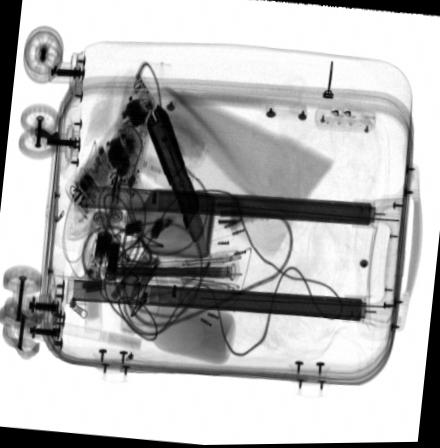Knife: (147, 105, 210, 257)
